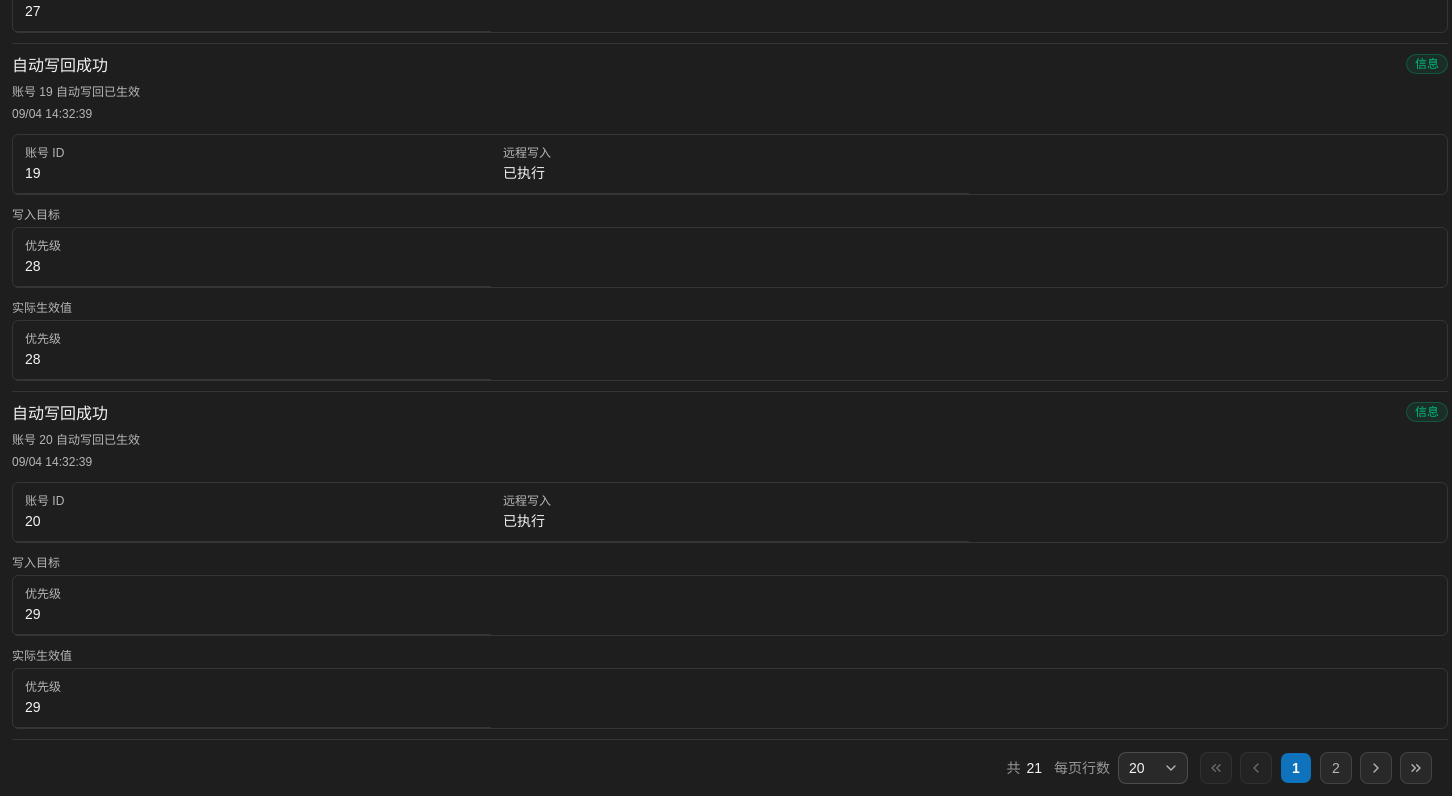
Test: automatic inspection log details › shows writeback payloads and moves between pages for an aggregated task
This screenshot has width=1452, height=796.
(page scrolled)
Expected: the text "账号 20 自动写回已生效" is shown, [12,433,140,447]
Expected: the text "账号 21 自动写回已生效" is not shown
Click the button named "转到下一页". click: x=1376, y=768
box: [1360,752,1392,784]
(page scrolled)
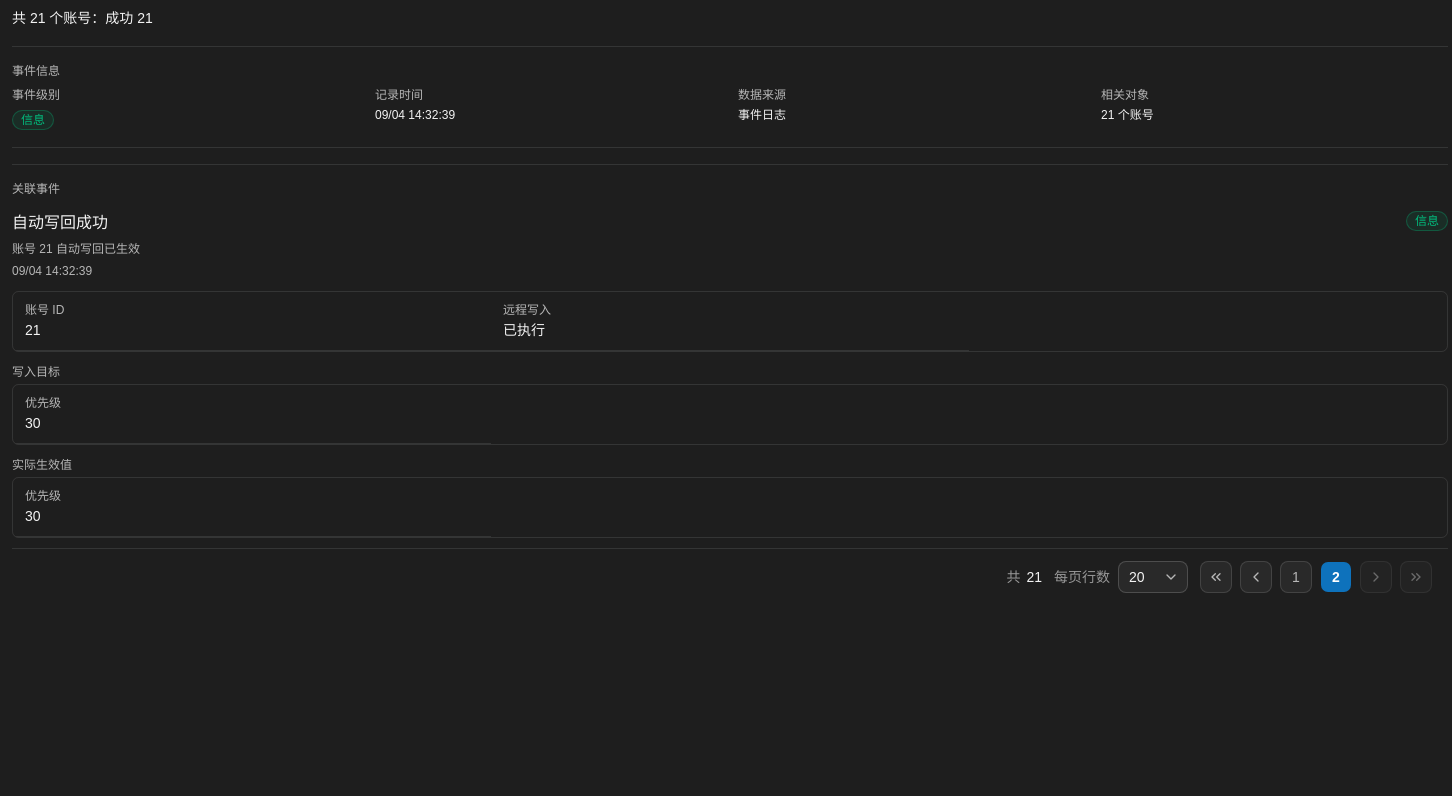
Result: the text "账号 21 自动写回已生效" is shown at [12,242,140,256]
Result: the text "账号 20 自动写回已生效" is gone
